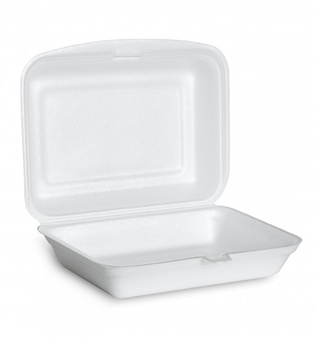Foam Box: (18, 34, 306, 303)
